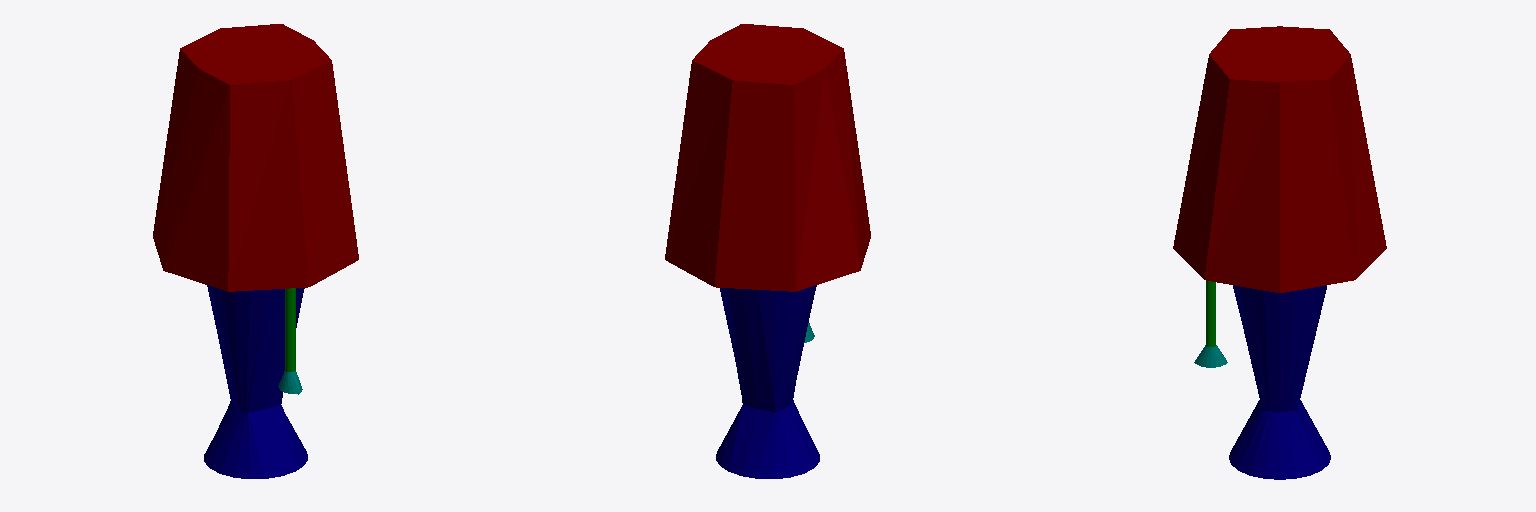
File: LampForSubstance.obj
The picture shows the model from 3 angles: view 1: azimuth 30°, elevation 25°; view 2: azimuth 150°, elevation 25°; view 3: azimuth 270°, elevation 25°; orthographic projection.
Visible parts, largest first — view 1: polySurface2; view 2: polySurface2; view 3: polySurface2.
Boxes of the visible parts, x1=… form: polySurface2: x1=153, y1=24, x2=358, y2=478; polySurface2: x1=665, y1=24, x2=870, y2=478; polySurface2: x1=1173, y1=26, x2=1386, y2=479.
Bounding box in the file's own units: 2.41 × 5.02 × 2.41.